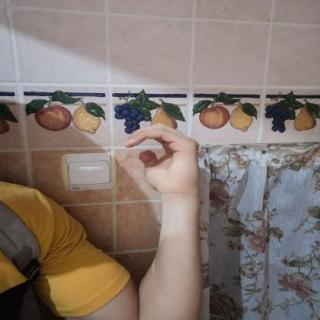JEEM: (111, 115, 215, 200)
